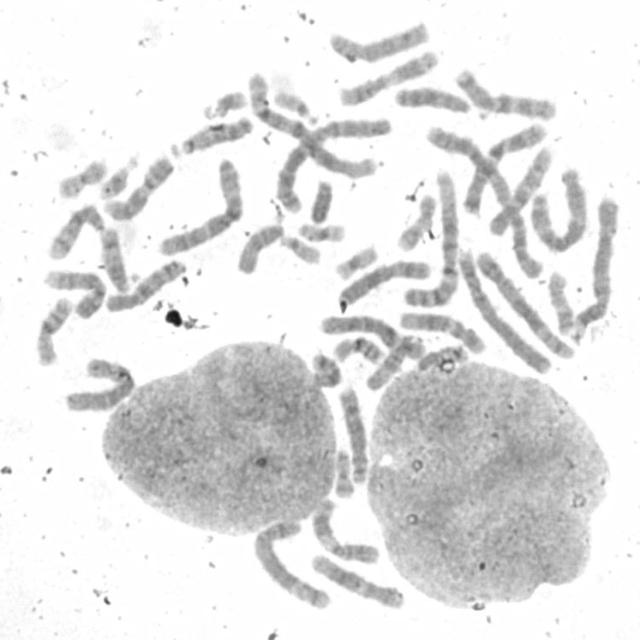A1: (244, 67, 380, 181), (399, 167, 463, 310)
A2: (422, 121, 546, 281), (270, 109, 394, 216)
A3: (154, 153, 246, 257), (526, 162, 590, 254)
B4: (457, 244, 556, 375), (569, 191, 622, 345)
B5: (458, 244, 580, 361), (249, 514, 334, 612)
C10: (484, 143, 556, 238), (102, 254, 188, 314)
C11: (334, 44, 443, 108), (307, 493, 383, 566)
C12: (306, 548, 408, 612), (395, 306, 489, 356)
C6: (315, 310, 426, 362), (61, 354, 137, 414)
C7: (460, 118, 550, 216), (451, 62, 560, 122)
C8: (325, 15, 432, 65), (334, 382, 371, 486)
C9: (100, 152, 177, 220), (39, 264, 108, 320)
D13: (172, 111, 255, 158), (391, 81, 474, 116)
D14: (43, 198, 106, 262), (97, 224, 135, 294)
D15: (362, 330, 422, 392), (232, 217, 287, 276)
E16: (32, 292, 74, 367), (329, 331, 387, 367)
E17: (392, 188, 439, 252), (544, 267, 576, 336)
E18: (414, 340, 471, 372), (306, 347, 344, 390)
F19: (330, 239, 380, 282), (294, 217, 349, 244)
F20: (53, 152, 110, 200), (331, 444, 356, 499)
G21: (95, 148, 142, 201), (198, 84, 250, 121)
G22: (269, 85, 320, 124), (278, 230, 323, 266)
X: (336, 254, 433, 312)
Y: (306, 175, 336, 225)
